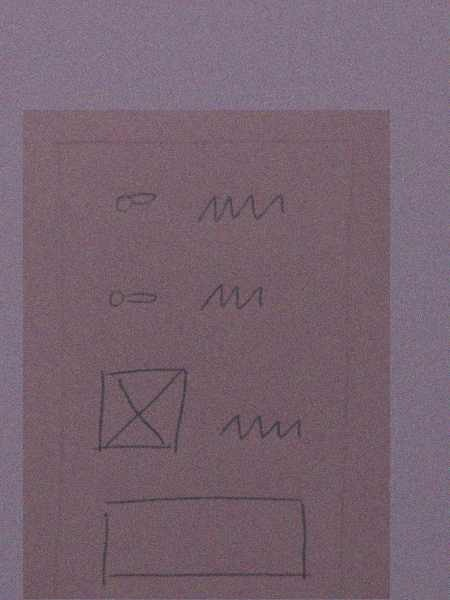image: (86, 363, 201, 459)
switch: (110, 183, 168, 218), (101, 285, 166, 312)
text: (216, 403, 310, 451), (189, 189, 296, 225), (190, 281, 276, 318)
text_input: (87, 488, 317, 589)
